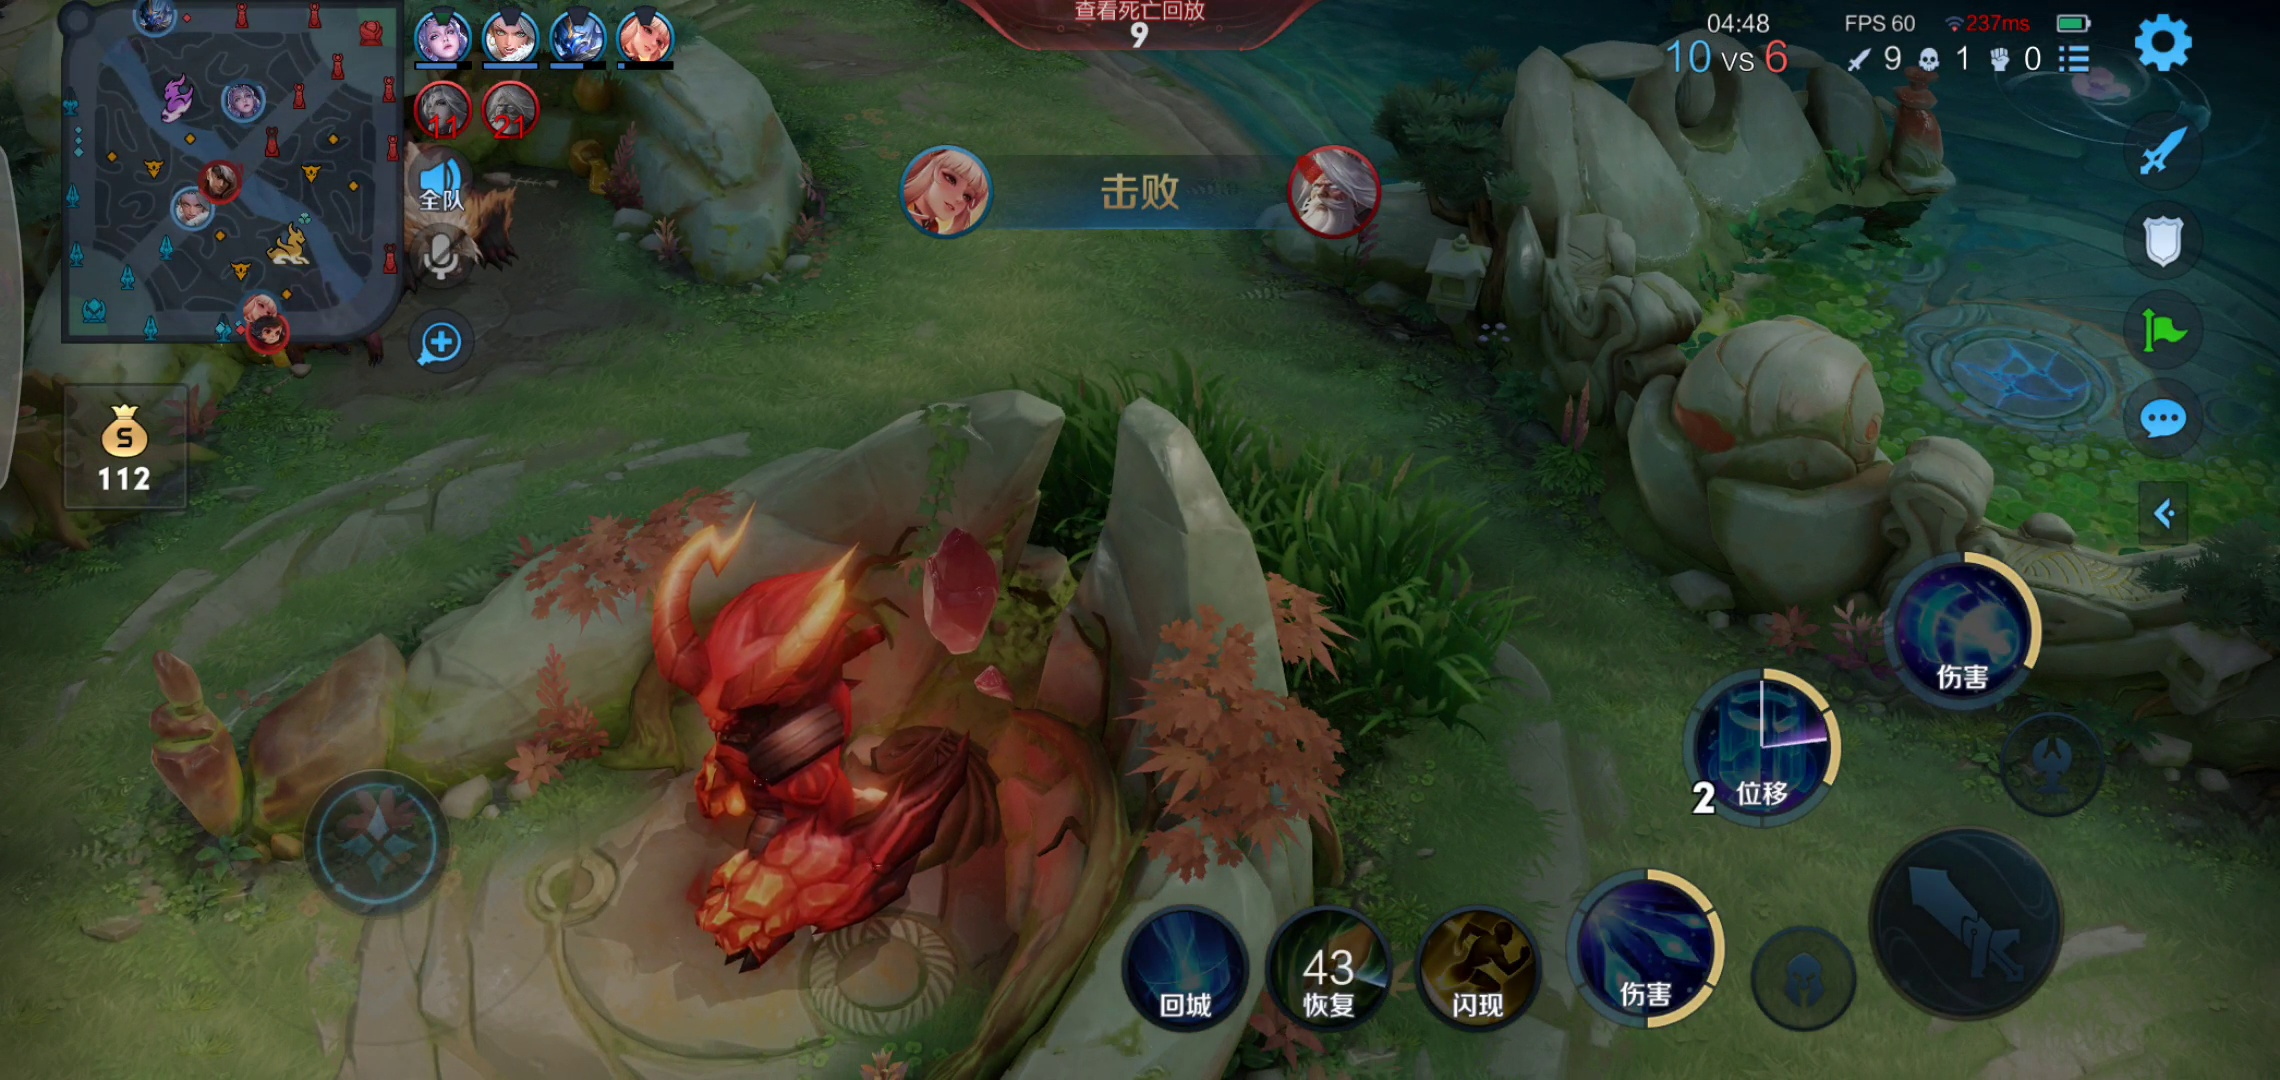buff: (619, 548, 979, 954)
grass: (947, 371, 1525, 741)
wild_monster: (413, 164, 569, 392)
